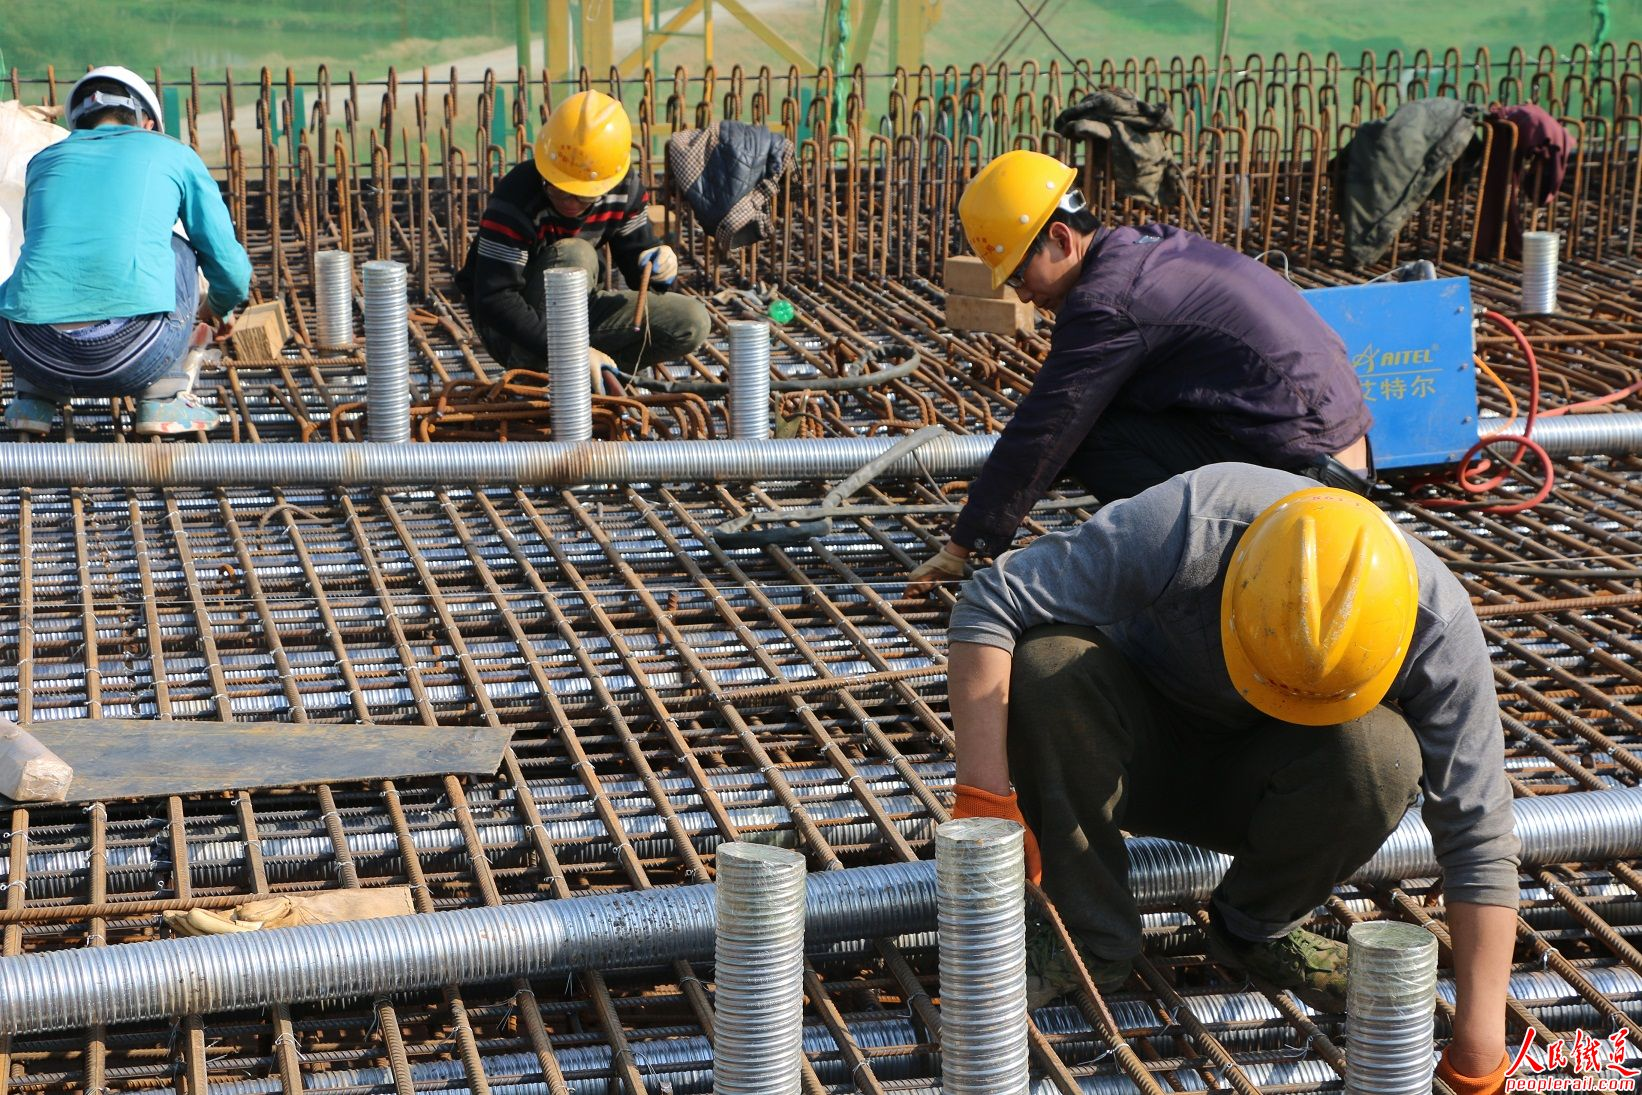safetyhat: (955, 438, 1553, 1011), (929, 138, 1330, 434), (1, 34, 269, 420), (457, 83, 702, 361)
